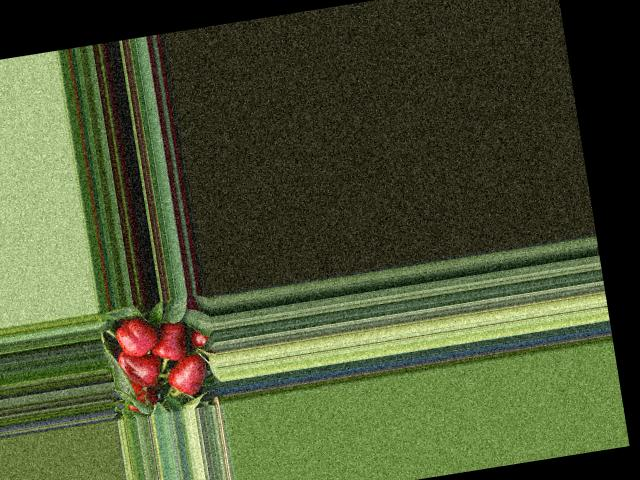bell_pepper: (110, 314, 168, 360)
